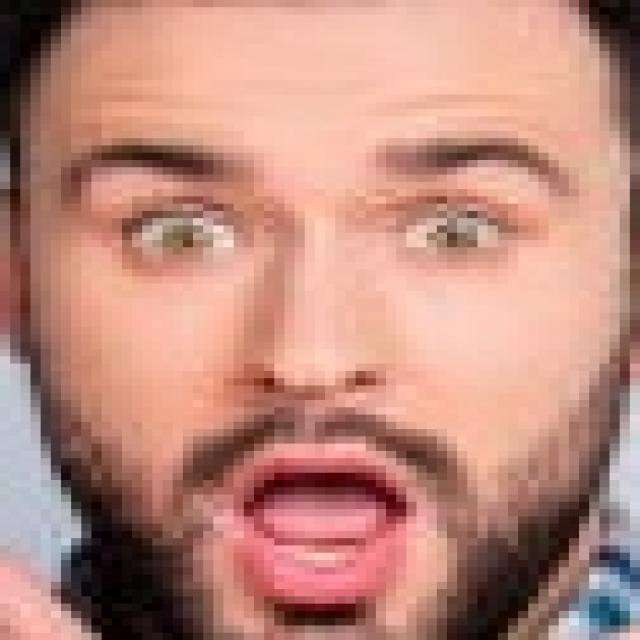Anxiety: (16, 0, 630, 633)
